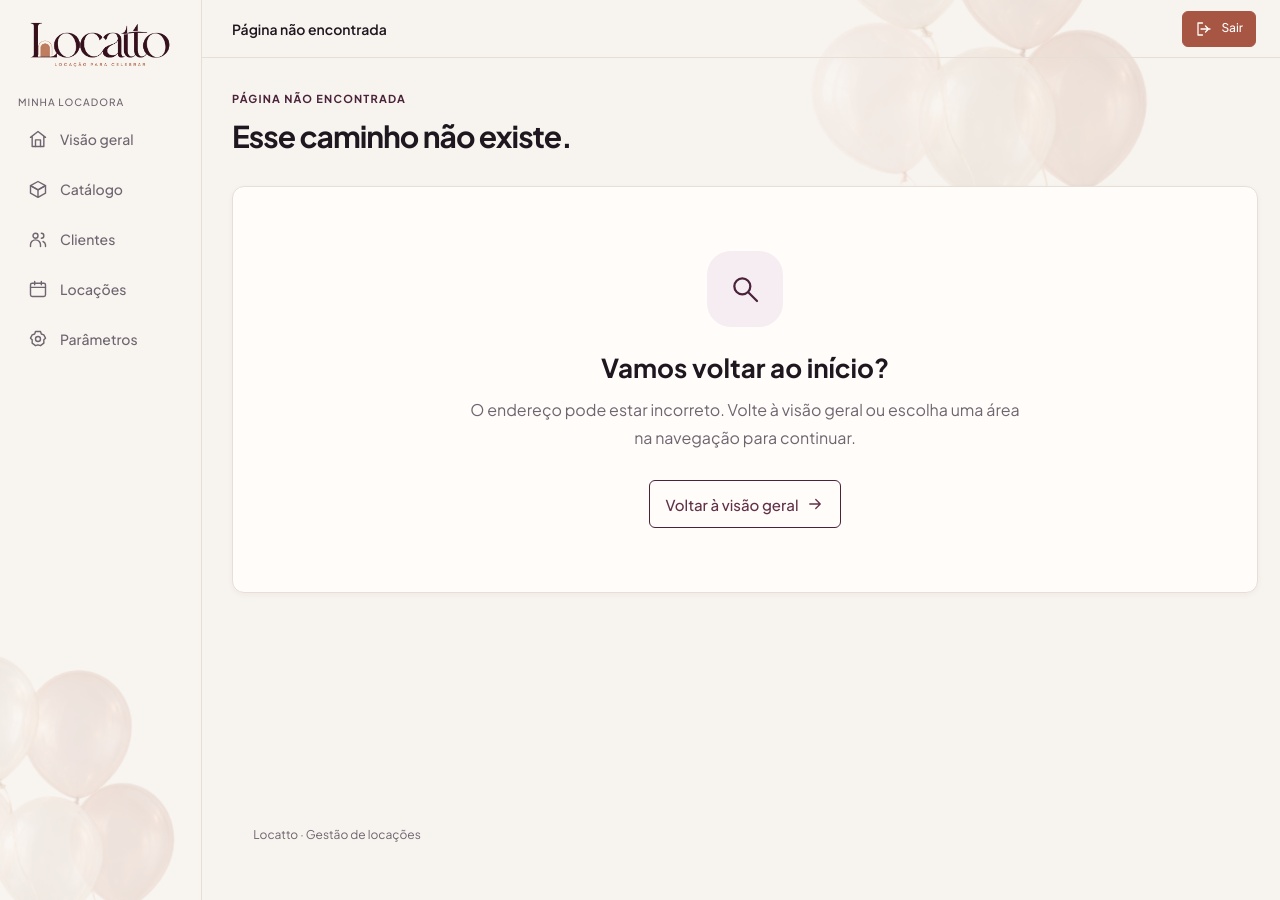
workspace routing › provides a recovery path for /nao-existe
Expected: the heading "Esse caminho não existe." is shown, [232,117,572,155]
Click the link "Voltar à visão geral" at (745, 504), box [648,480,841,528]
(page scrolled)
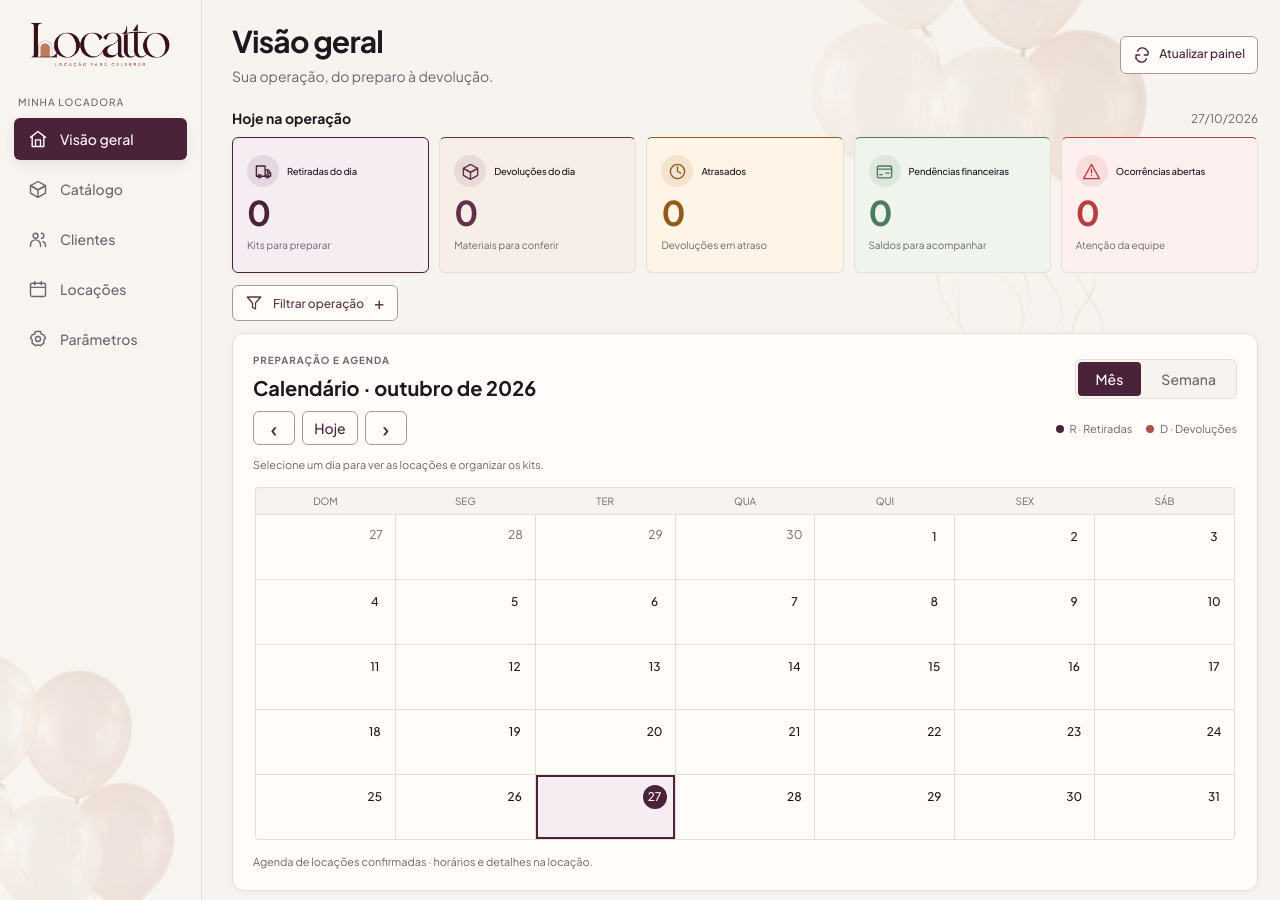
Now the heading "Visão geral" is shown, box [232,22,383,60]
